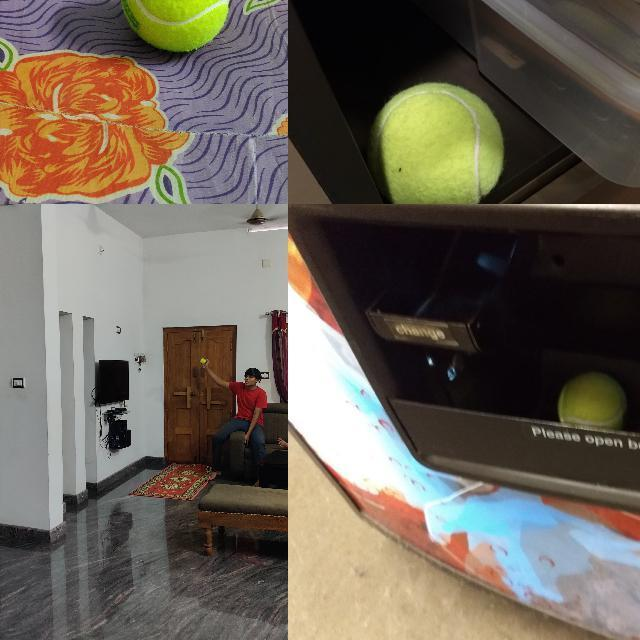tennis-ball: (366, 81, 504, 203), (120, 0, 230, 52), (557, 371, 628, 422), (199, 359, 205, 364)
